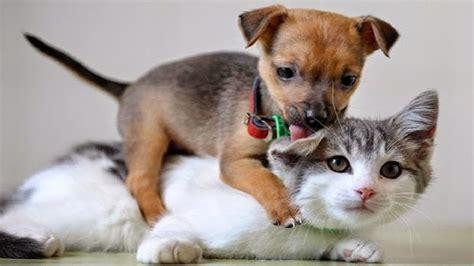cat: (1, 90, 438, 263)
dog: (25, 5, 398, 227)
